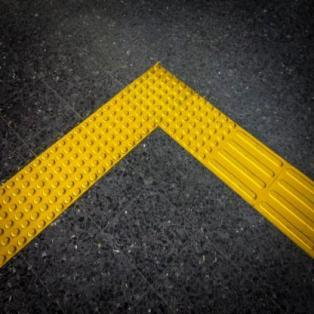Podoctatil: (0, 62, 314, 268)
